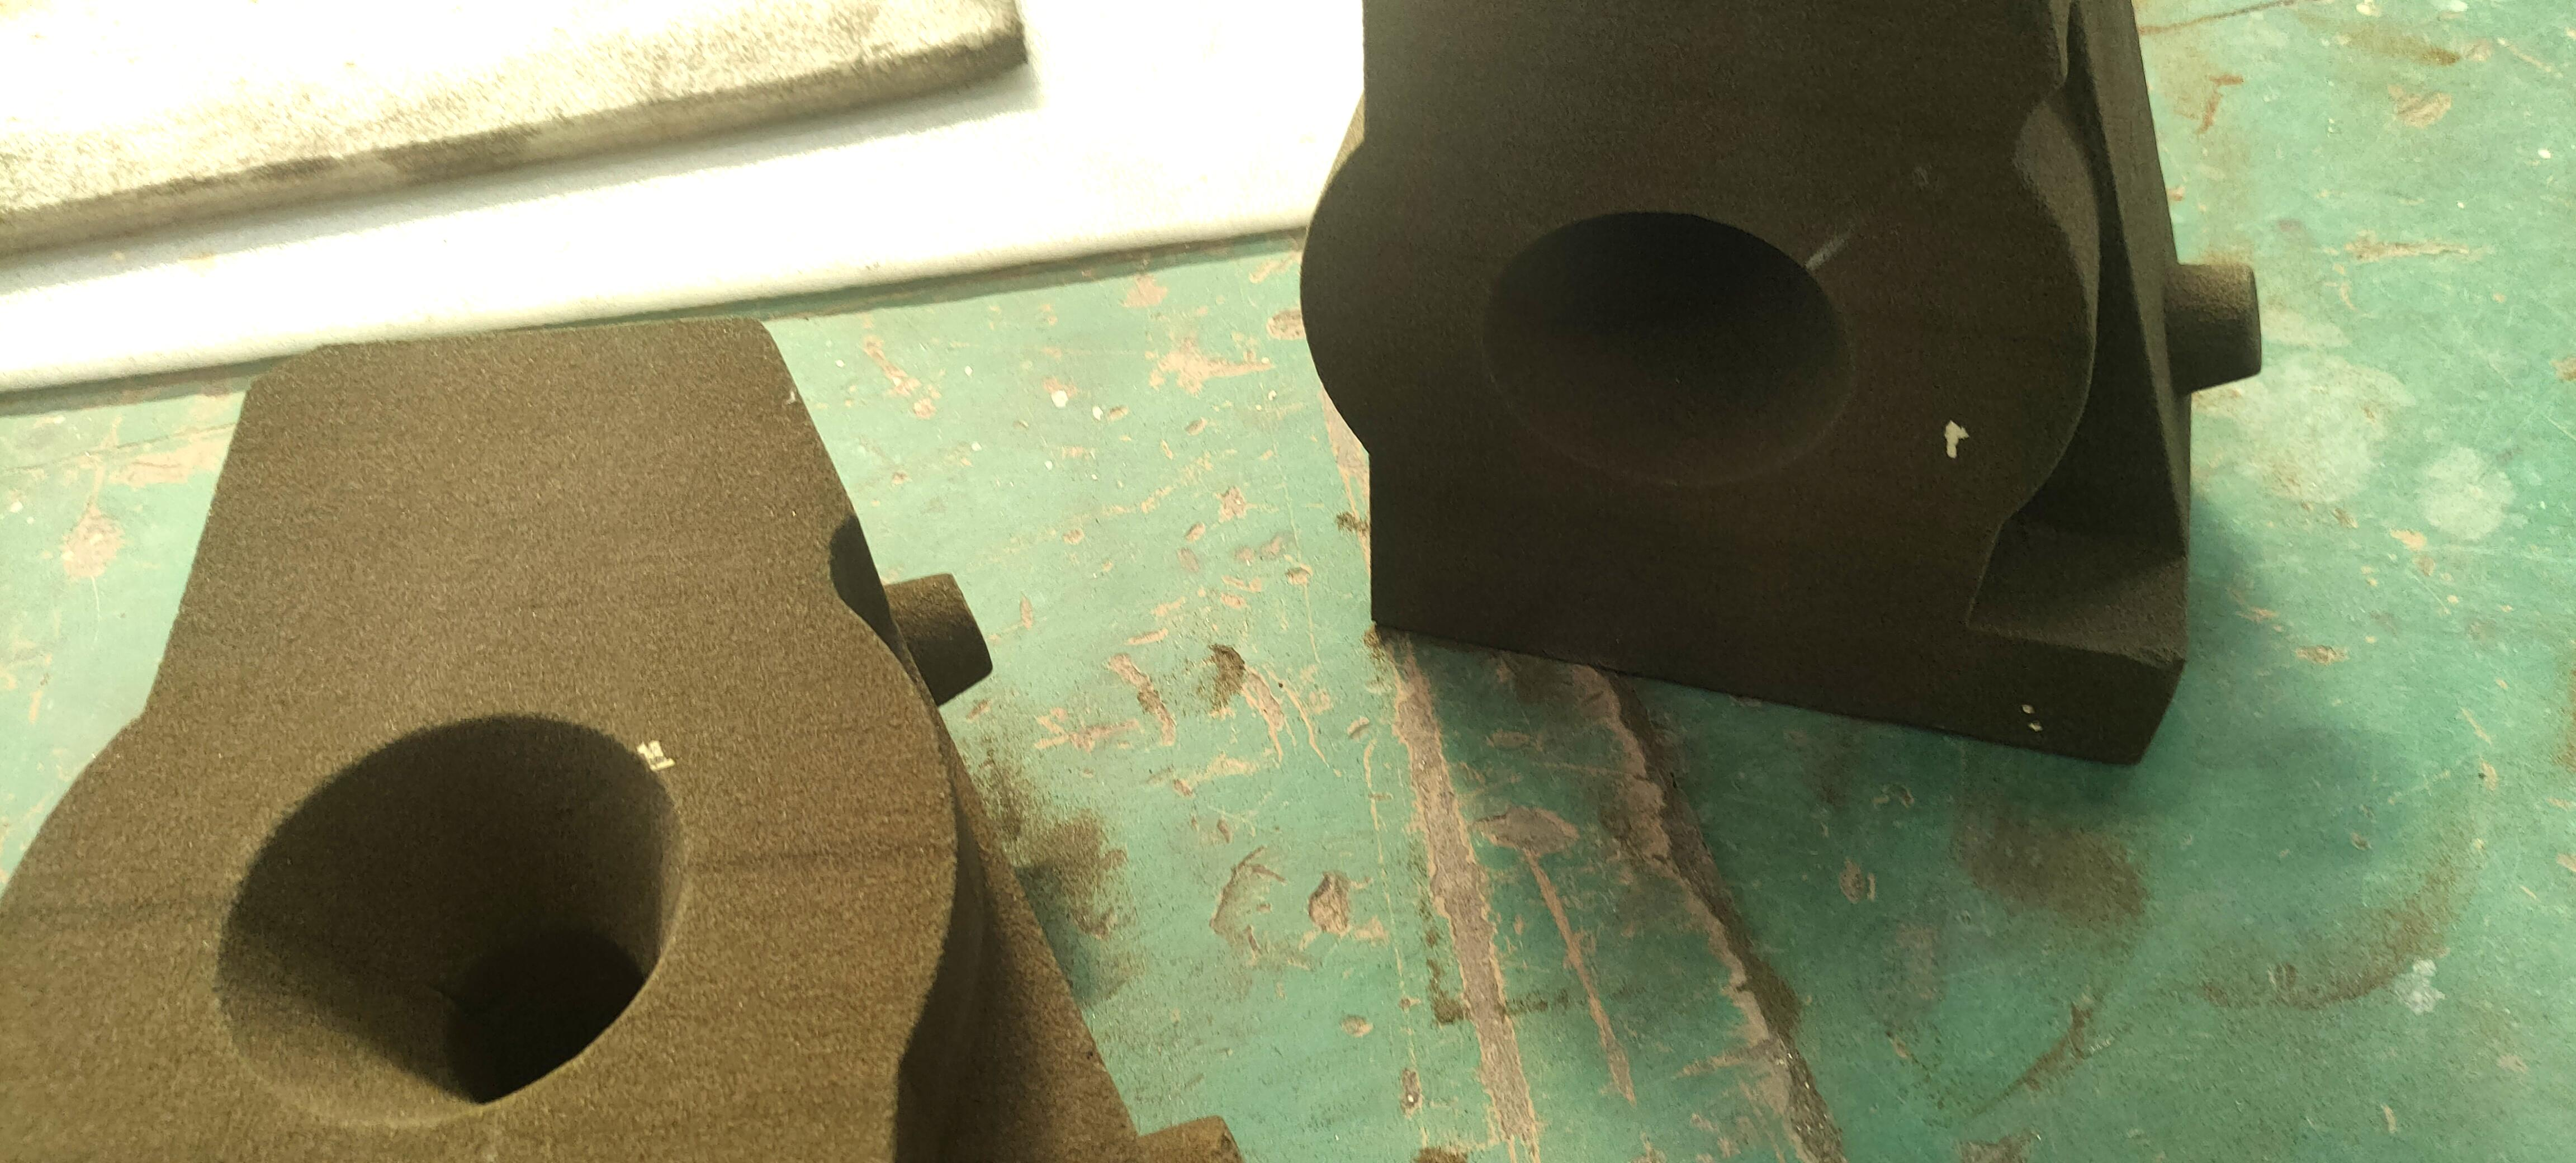pouring hole: (215, 708, 683, 1130), (1482, 210, 1856, 490)
